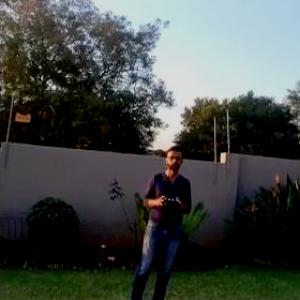follow: (121, 138, 195, 299)
